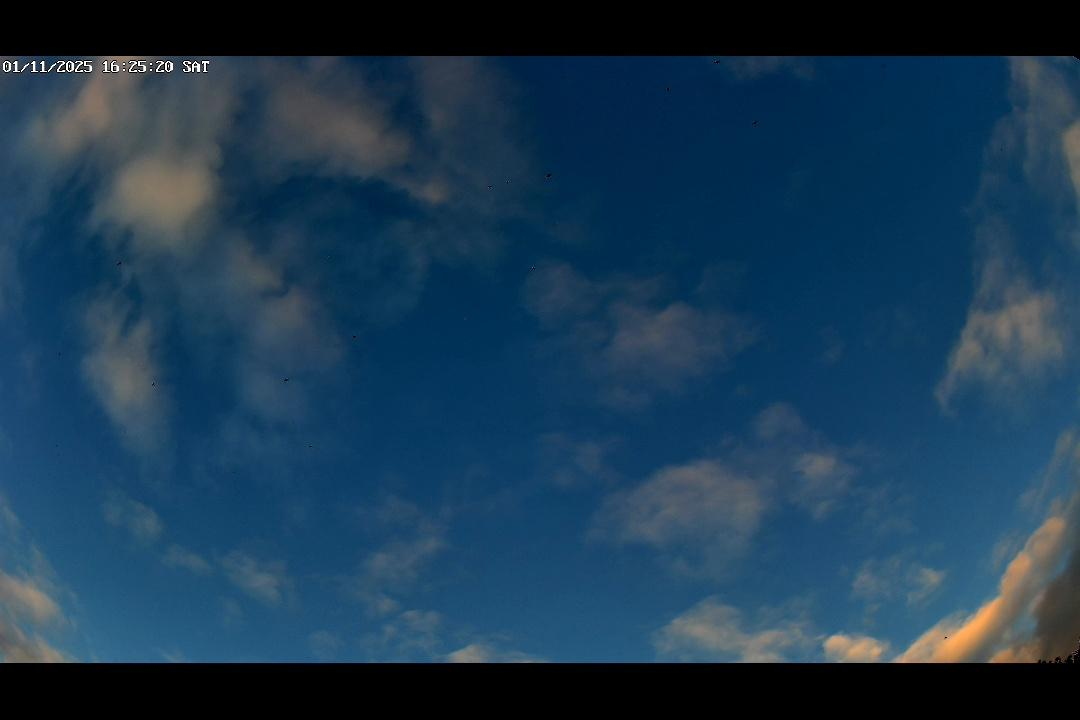WildLife: (709, 57, 723, 68), (746, 118, 764, 126), (528, 263, 539, 275), (878, 60, 890, 71), (661, 85, 675, 94), (115, 258, 125, 269), (503, 176, 514, 186), (281, 376, 293, 385), (542, 172, 555, 180), (120, 427, 129, 438), (996, 145, 1007, 153), (484, 183, 496, 190), (307, 442, 316, 451), (323, 252, 332, 261), (350, 333, 359, 341), (462, 313, 469, 322), (57, 350, 63, 358), (150, 381, 158, 387), (230, 470, 237, 476), (97, 302, 103, 308), (940, 636, 949, 640), (53, 443, 61, 447), (119, 293, 125, 298)
